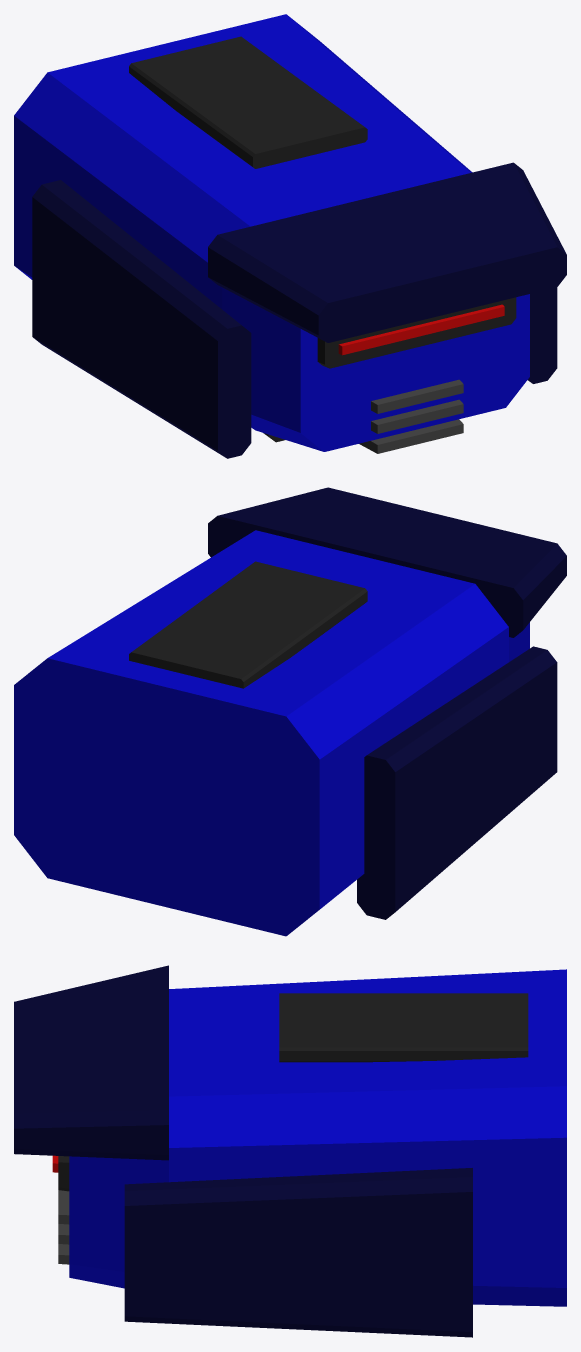
Rendered from Head_Bulwark.obj.
3 views of the same model, one above another, from view 1: azimuth 30°, elevation 25°; view 2: azimuth 150°, elevation 25°; view 3: azimuth 270°, elevation 25° (orthographic).
Visible parts, largest first — view 1: navy, hblue, dark, gray, red; view 2: hblue, navy, dark; view 3: hblue, navy, dark, gray.
Boxes of the visible parts, bbox=[...] form: navy: bbox=[32, 162, 566, 458]; hblue: bbox=[14, 14, 529, 451]; dark: bbox=[129, 36, 516, 442]; gray: bbox=[359, 379, 463, 453]; red: bbox=[338, 304, 504, 355]; hblue: bbox=[14, 530, 529, 936]; navy: bbox=[208, 487, 566, 919]; dark: bbox=[129, 561, 367, 688]; hblue: bbox=[69, 969, 566, 1306]; navy: bbox=[14, 965, 472, 1337]; dark: bbox=[58, 993, 528, 1191]; gray: bbox=[58, 1190, 69, 1264].
Size of the model in its own units: 0.76 by 0.565 by 1.
